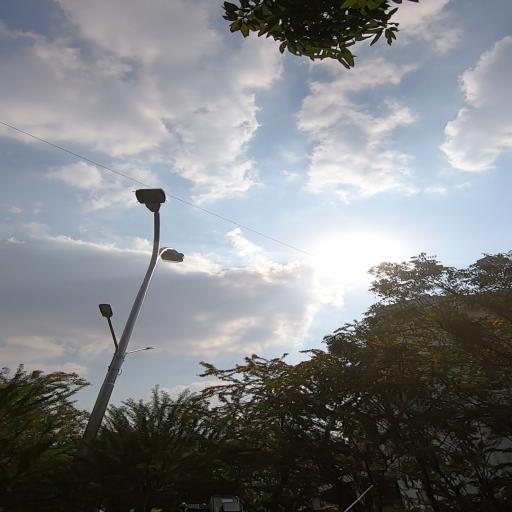Street_light: (125, 183, 177, 224), (93, 300, 124, 346), (161, 241, 190, 272), (130, 340, 159, 362)
